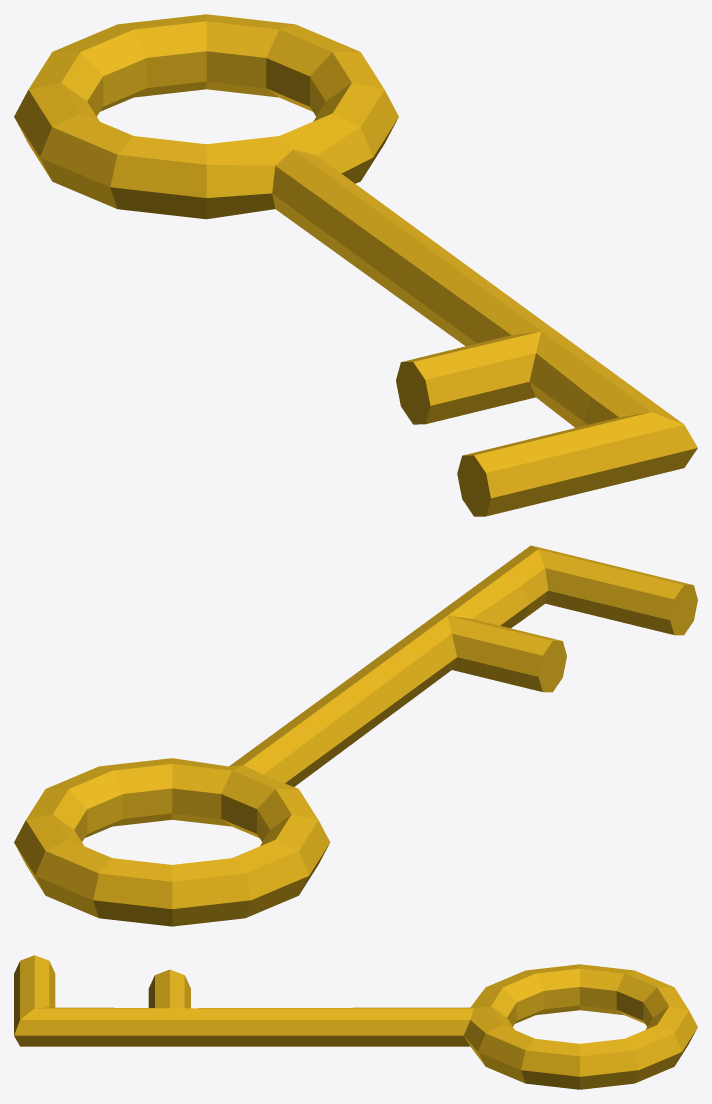
Rendered from key.glb.
3 views of the same model, one above another, from view 1: azimuth 30°, elevation 25°; view 2: azimuth 150°, elevation 25°; view 3: azimuth 270°, elevation 25° (orthographic). The views are drawn at different scales.
Parts seen in each view (by area): view 1: Torus; view 2: Torus; view 3: Torus.
Boxes of the visible parts, x1,y1,x2,y2 form: Torus: (14, 14, 697, 516); Torus: (14, 545, 697, 926); Torus: (14, 955, 697, 1089).
Size of the model in its own units: 0.2128 by 0.0402 by 0.5976.
